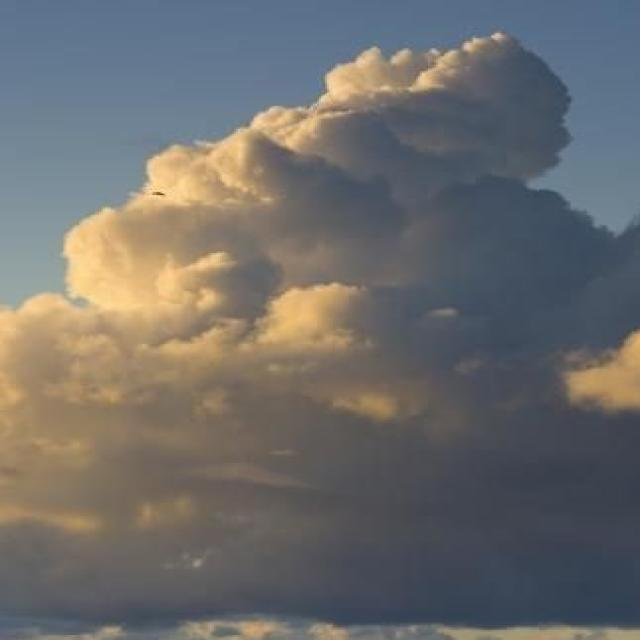cumulonimbus: (35, 36, 633, 630)
